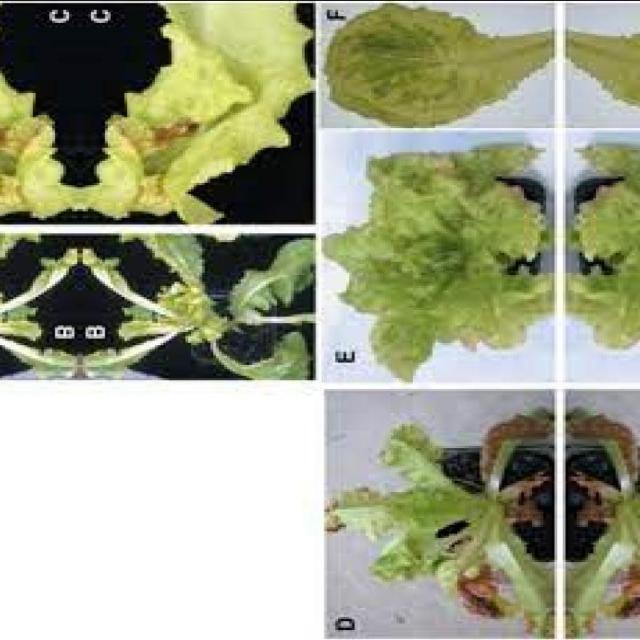healthy: (326, 140, 550, 382), (86, 0, 311, 216), (83, 235, 314, 377), (323, 5, 552, 128), (569, 140, 640, 382), (0, 0, 73, 216), (0, 235, 76, 377), (567, 5, 640, 128)
